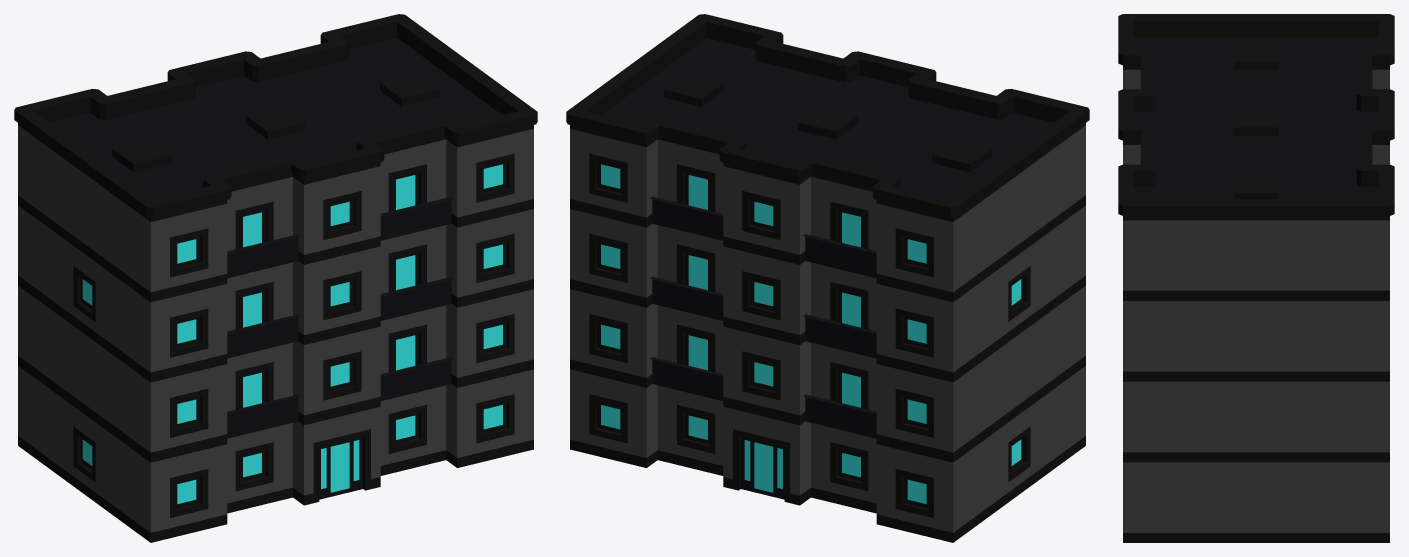
3 views of the same model, side by side, from view 1: azimuth 30°, elevation 25°; view 2: azimuth 150°, elevation 25°; view 3: azimuth 270°, elevation 25° (orthographic).
Parts seen in each view (by area): view 1: large_buildingA; view 2: large_buildingA; view 3: large_buildingA.
Part boxes in pixels (x1=…): large_buildingA: x1=14, y1=14, x2=537, y2=542; large_buildingA: x1=566, y1=14, x2=1089, y2=542; large_buildingA: x1=1118, y1=14, x2=1394, y2=542.
Size of the model in its own units: 2.04 by 1.68 by 1.24.
